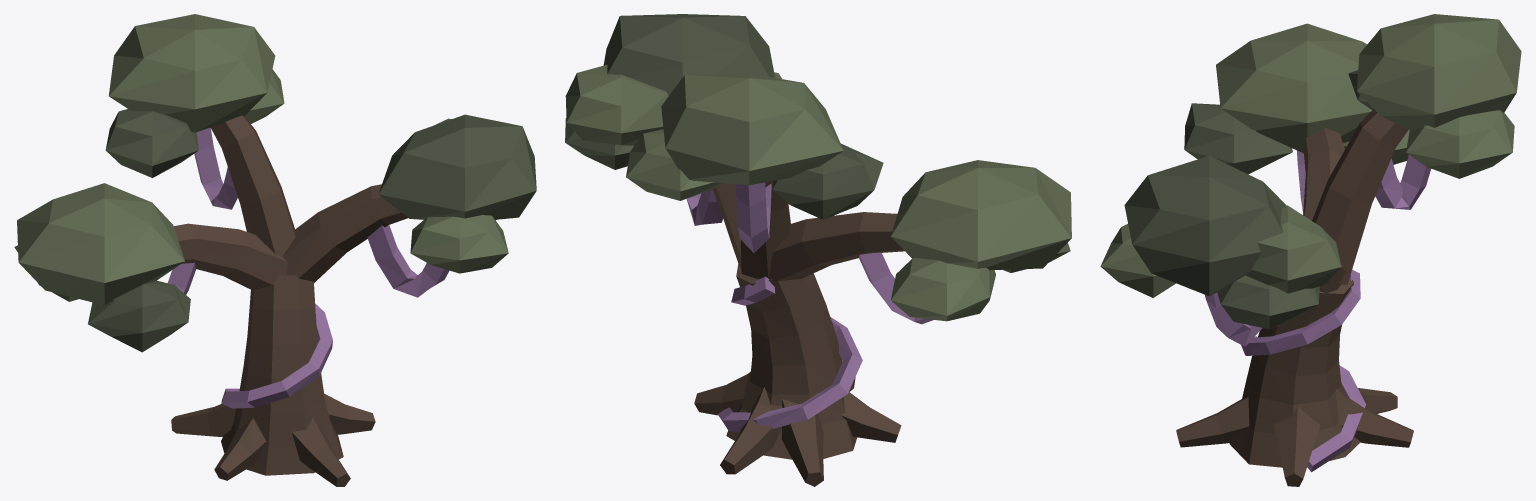
File: tree_polux_c.obj
The picture shows the model from 3 angles, left to right: view 1: azimuth 30°, elevation 25°; view 2: azimuth 150°, elevation 25°; view 3: azimuth 270°, elevation 25°; orthographic projection. The views are drawn at different scales.
Visible parts, largest first — view 1: tree_polux_c_8, tree_polux_c_17, tree_polux_c_12, tree_polux_c_5, tree_polux_c_16, tree_polux_c_11, tree_polux_c_7, tree_polux_c_9, tree_polux_c_15, tree_polux_c_18, tree_polux_c_6, tree_polux_c_21 (+7 smaller); view 2: tree_polux_c_17, tree_polux_c_8, tree_polux_c_5, tree_polux_c_12, tree_polux_c_13, tree_polux_c_7, tree_polux_c_10, tree_polux_c_18, tree_polux_c_6, tree_polux_c_19, tree_polux_c_2, tree_polux_c_1 (+8 smaller); view 3: tree_polux_c_12, tree_polux_c_17, tree_polux_c_8, tree_polux_c_5, tree_polux_c_16, tree_polux_c_19, tree_polux_c_13, tree_polux_c_9, tree_polux_c_6, tree_polux_c_14, tree_polux_c_7, tree_polux_c_0 (+6 smaller).
Boxes of the visible parts, bbox=[...] form: tree_polux_c_8: bbox=[17, 183, 184, 305]; tree_polux_c_17: bbox=[109, 14, 275, 132]; tree_polux_c_12: bbox=[378, 114, 536, 219]; tree_polux_c_5: bbox=[221, 275, 343, 475]; tree_polux_c_16: bbox=[210, 115, 295, 256]; tree_polux_c_11: bbox=[282, 184, 407, 282]; tree_polux_c_7: bbox=[174, 223, 287, 290]; tree_polux_c_9: bbox=[88, 280, 190, 352]; tree_polux_c_15: bbox=[410, 215, 508, 273]; tree_polux_c_18: bbox=[105, 109, 198, 177]; tree_polux_c_6: bbox=[221, 304, 332, 408]; tree_polux_c_21: bbox=[367, 225, 449, 297]; tree_polux_c_17: bbox=[661, 73, 843, 185]; tree_polux_c_8: bbox=[891, 160, 1071, 270]; tree_polux_c_5: bbox=[726, 264, 857, 459]; tree_polux_c_12: bbox=[603, 14, 774, 95]; tree_polux_c_13: bbox=[565, 65, 668, 145]; tree_polux_c_7: bbox=[756, 212, 904, 282]; tree_polux_c_10: bbox=[891, 258, 995, 321]; tree_polux_c_18: bbox=[772, 143, 883, 219]; tree_polux_c_6: bbox=[717, 276, 862, 431]; tree_polux_c_19: bbox=[626, 129, 722, 200]; tree_polux_c_2: bbox=[781, 399, 823, 486]; tree_polux_c_1: bbox=[720, 387, 782, 474]; tree_polux_c_12: bbox=[1124, 156, 1286, 296]; tree_polux_c_17: bbox=[1357, 14, 1521, 130]; tree_polux_c_8: bbox=[1216, 23, 1371, 153]; tree_polux_c_5: bbox=[1229, 278, 1360, 467]; tree_polux_c_16: bbox=[1312, 109, 1408, 284]; tree_polux_c_19: bbox=[1406, 110, 1514, 178]; tree_polux_c_13: bbox=[1245, 205, 1341, 293]; tree_polux_c_9: bbox=[1184, 103, 1292, 174]; tree_polux_c_6: bbox=[1241, 269, 1366, 472]; tree_polux_c_14: bbox=[1217, 275, 1319, 329]; tree_polux_c_7: bbox=[1303, 127, 1344, 220]; tree_polux_c_0: bbox=[1273, 406, 1320, 486].
Bounding box in the file's own units: 1.22 × 0.92 × 0.861.
